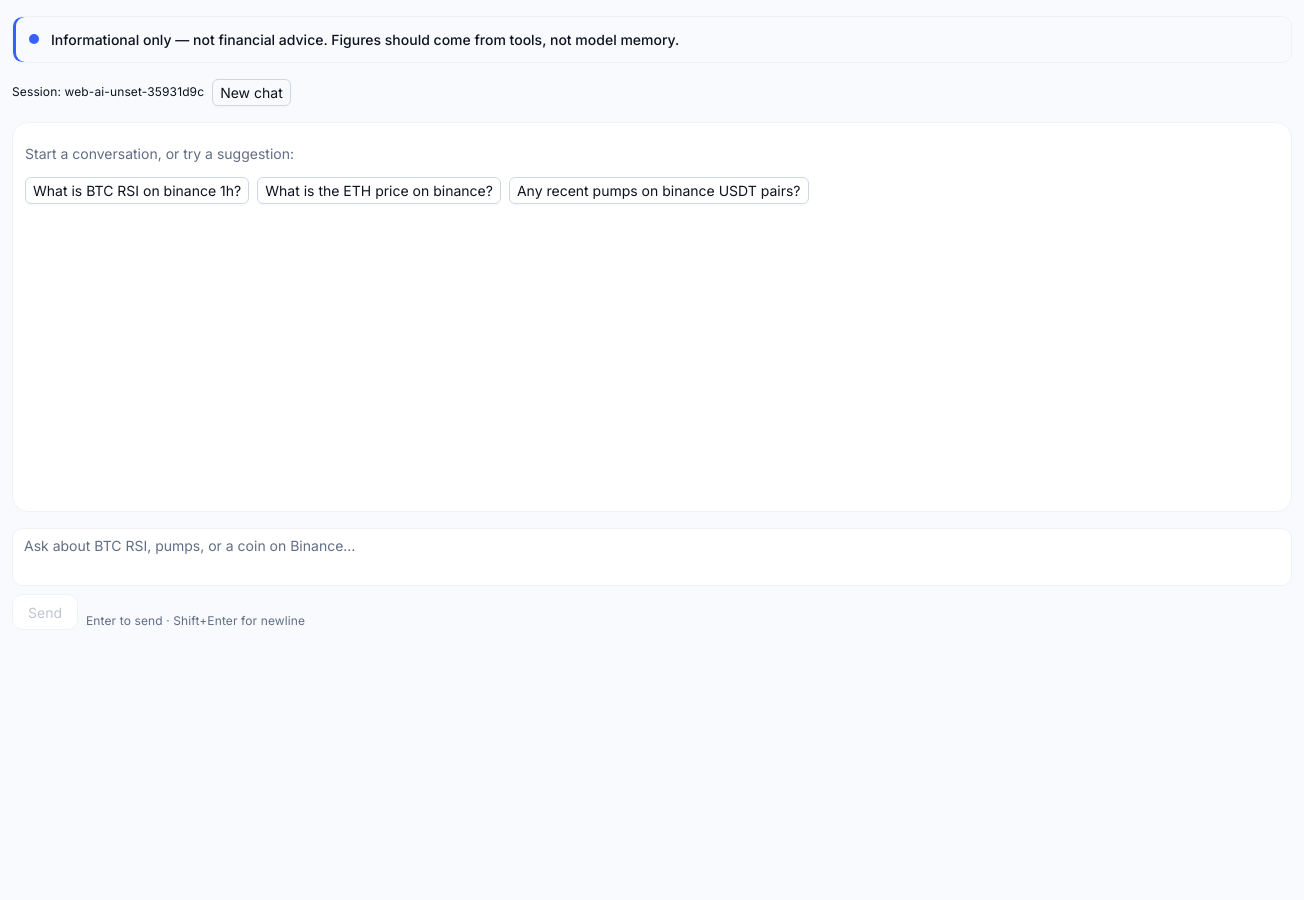
Test: AiChatPage › renders markdown reply and numbered process steps
Type "rsi?" into the text box at (652, 557), box [12,528,1292,586]
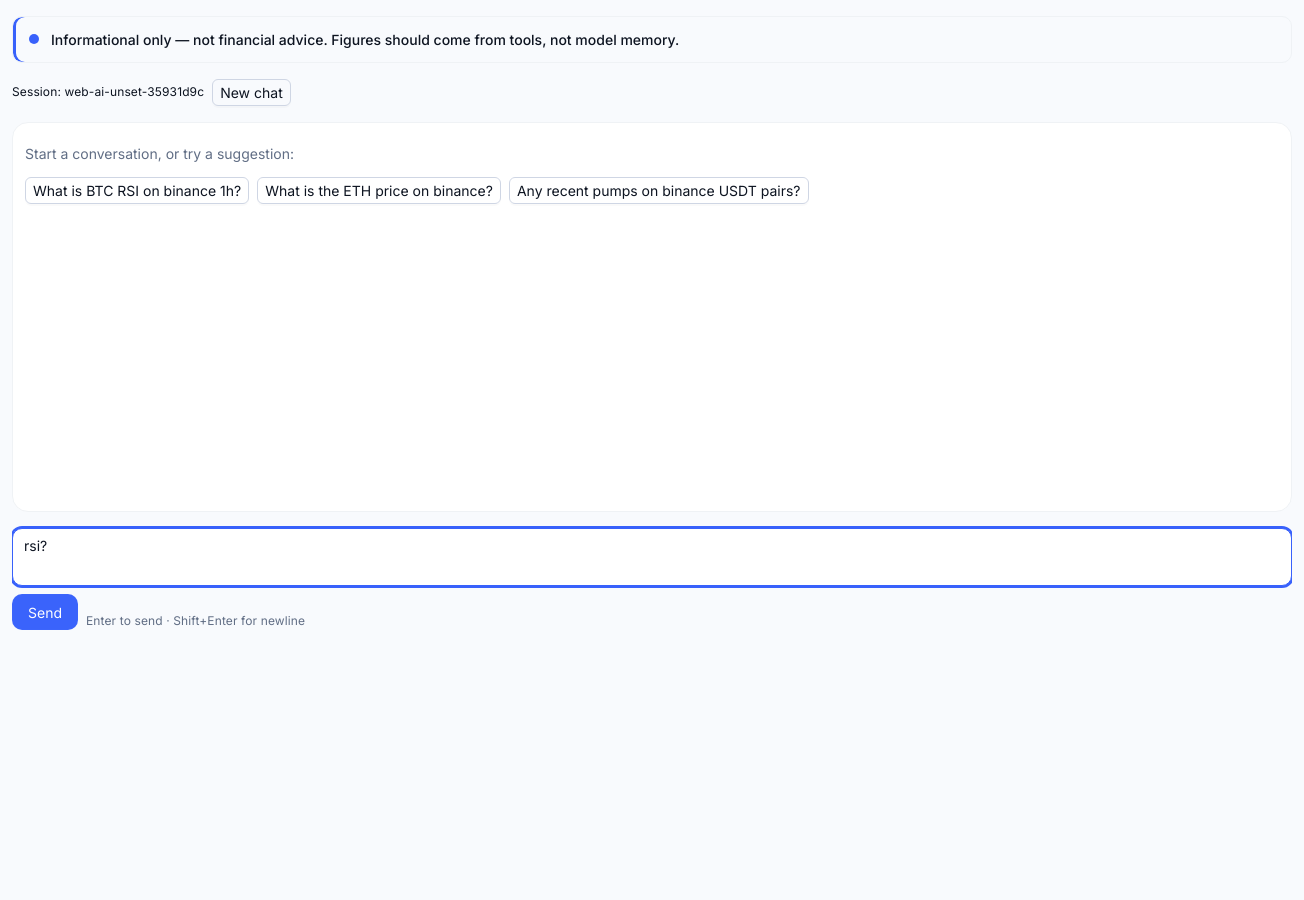
Click the button "Send" at (45, 612), box [12,594,78,630]
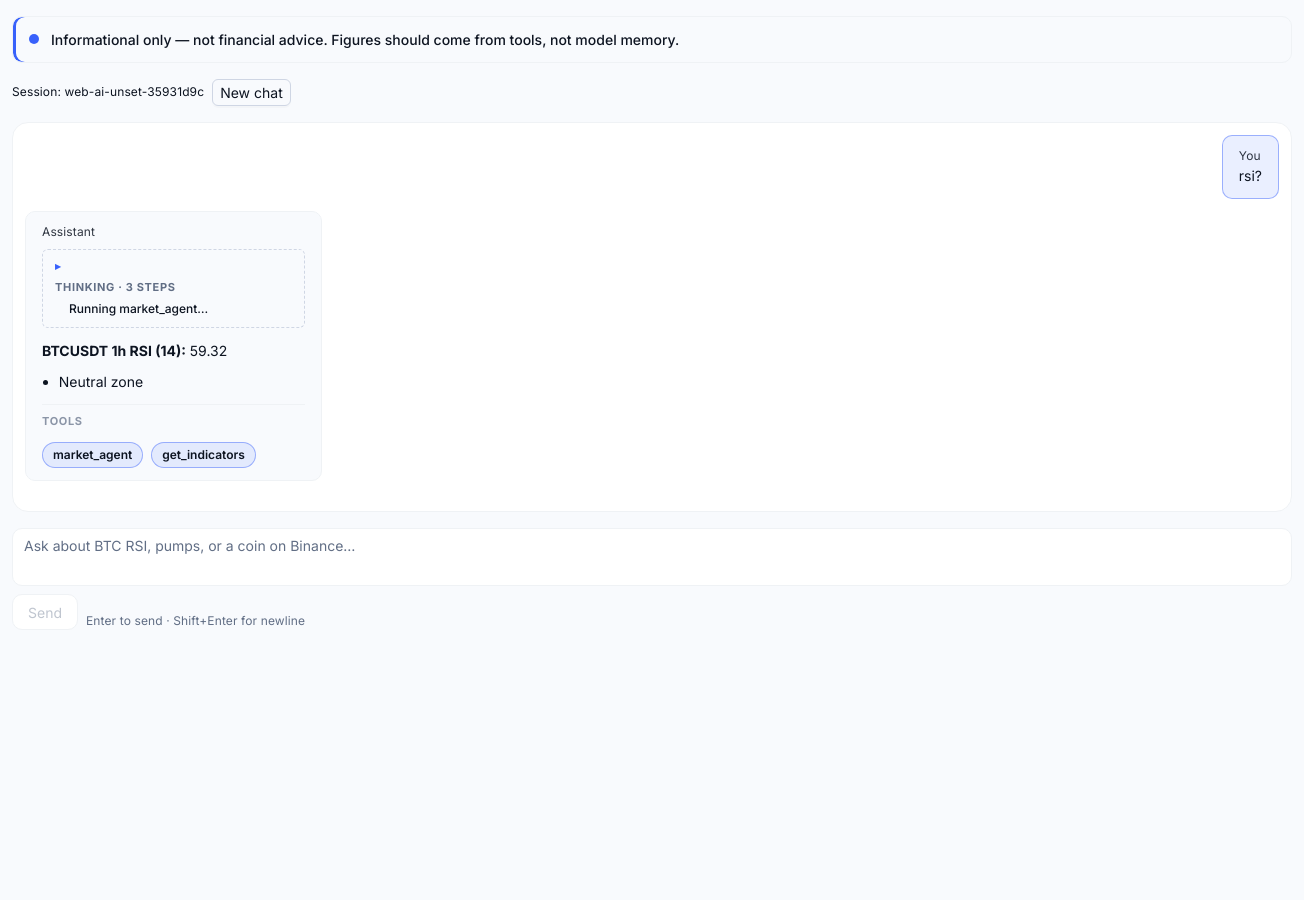
Result: the text "59.32" is shown at [186,342,227,359]
Result: the text "Neutral zone" is shown at [59,373,143,390]
Result: the heading "Thinking · 3 steps Running market_agent…" is shown
Click the heading "Thinking · 3 steps Running market_agent…" at (115, 287), box [55,280,208,316]
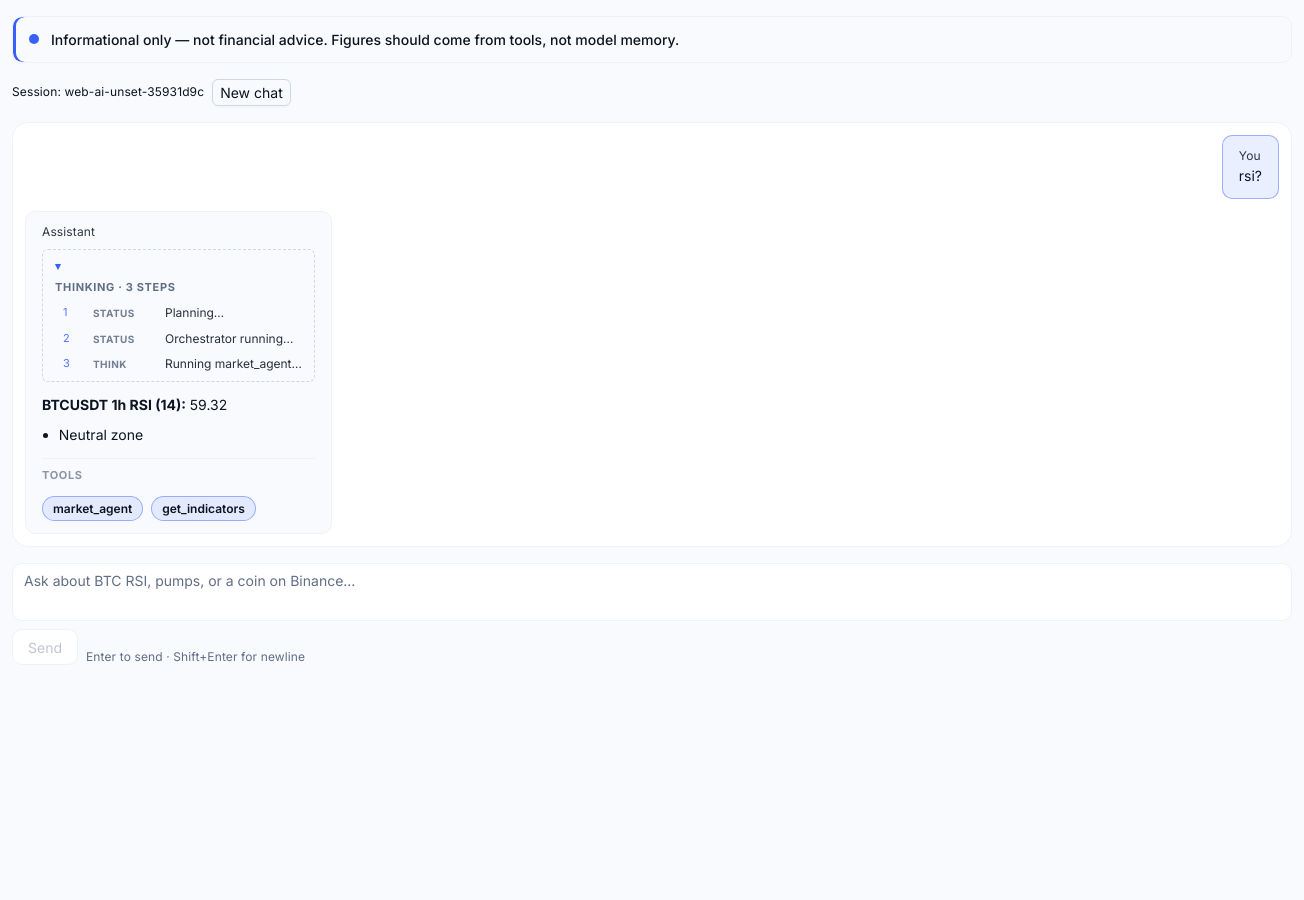
Result: the text "Running market_agent…" is shown at [165,355,302,372]
Result: the text "market_agent" is shown at [42,496,143,522]
Result: the text "Planning…" is shown at [165,305,224,320]
